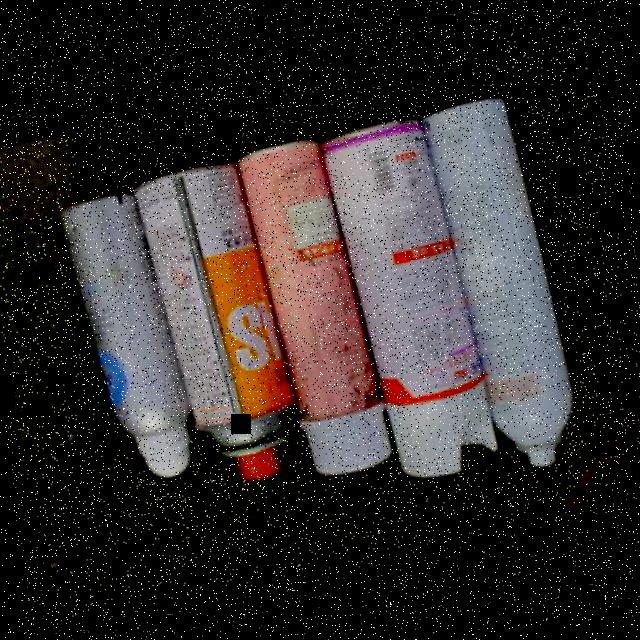chemical_spray_can: (319, 119, 495, 477), (419, 99, 570, 464), (234, 139, 387, 475), (130, 165, 291, 481), (56, 191, 186, 475)
